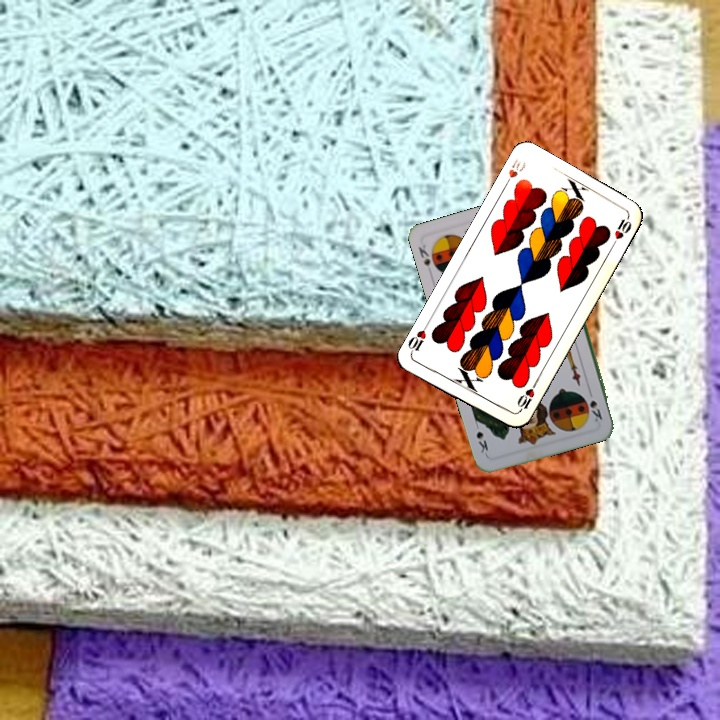H10: (499, 155, 528, 191), (513, 378, 539, 416)
SK: (414, 241, 434, 278), (586, 396, 605, 424)
